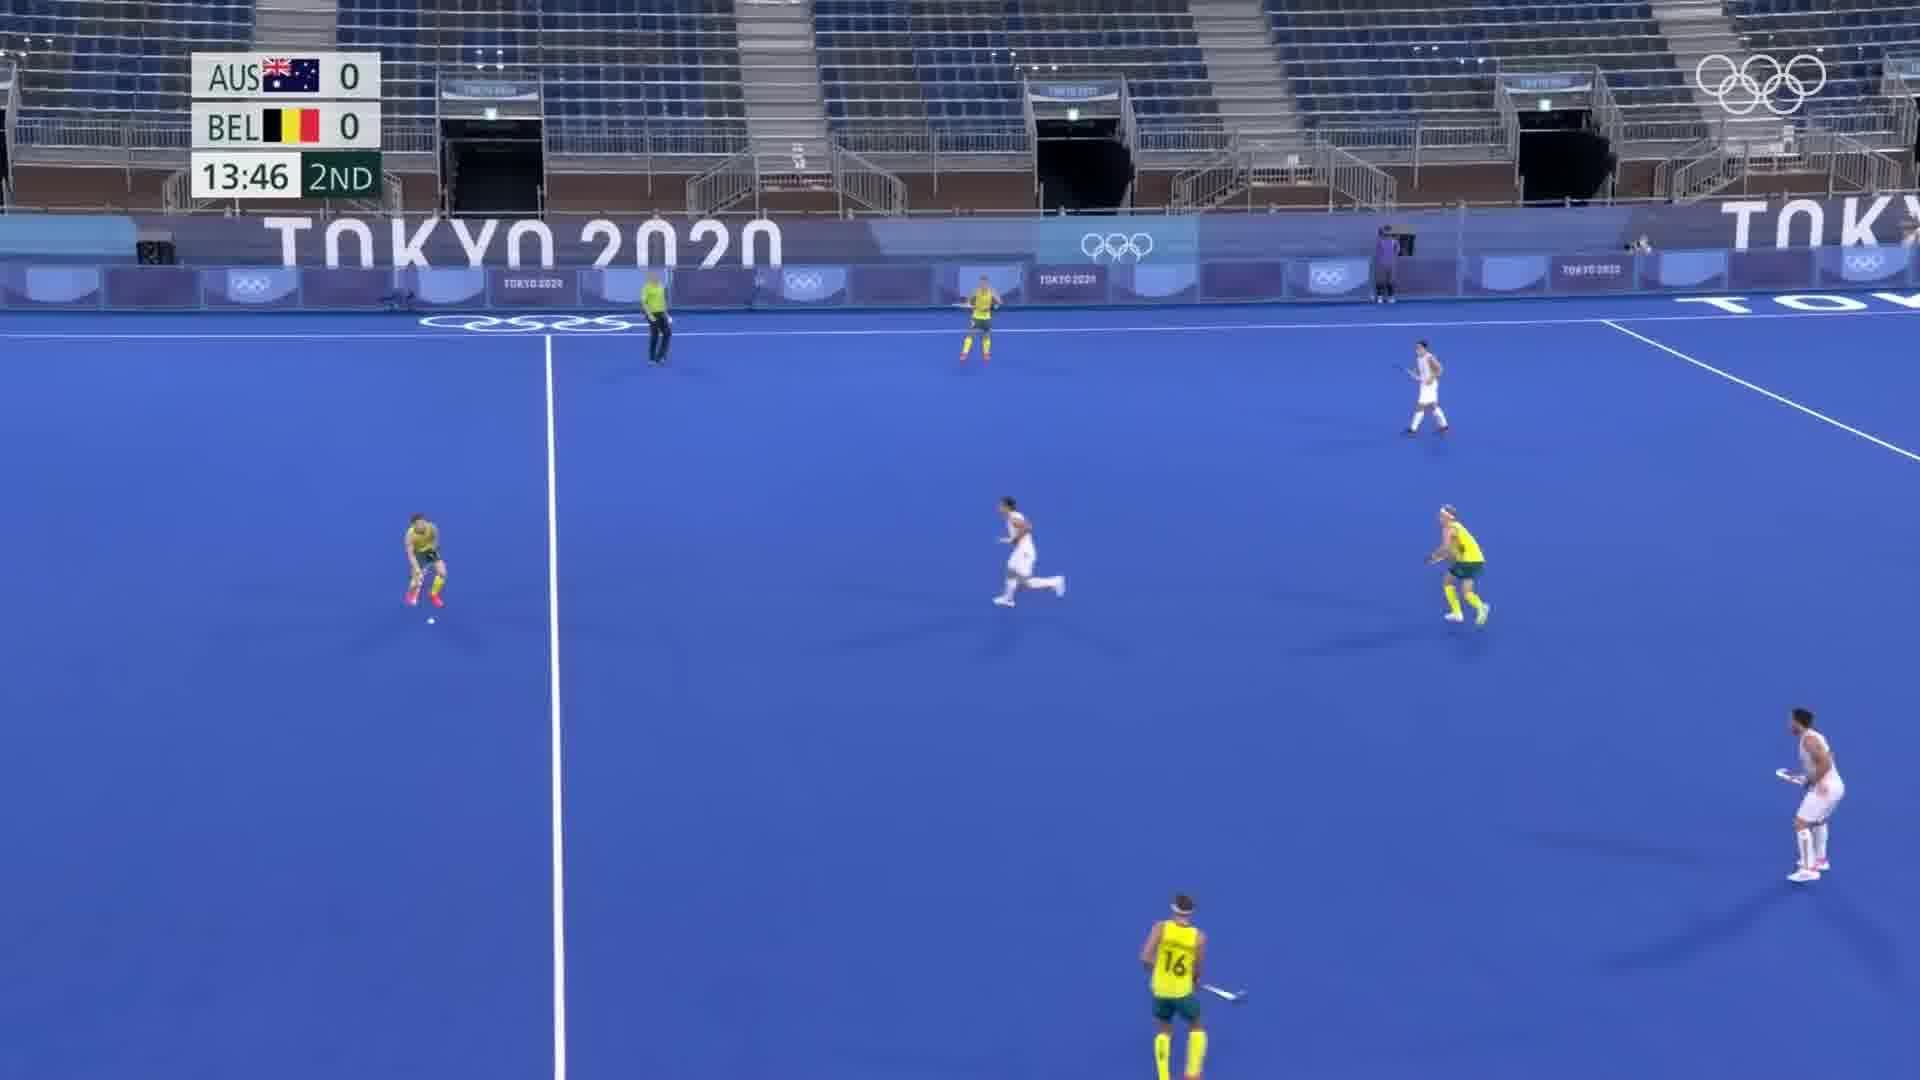ball: (423, 610, 441, 630)
